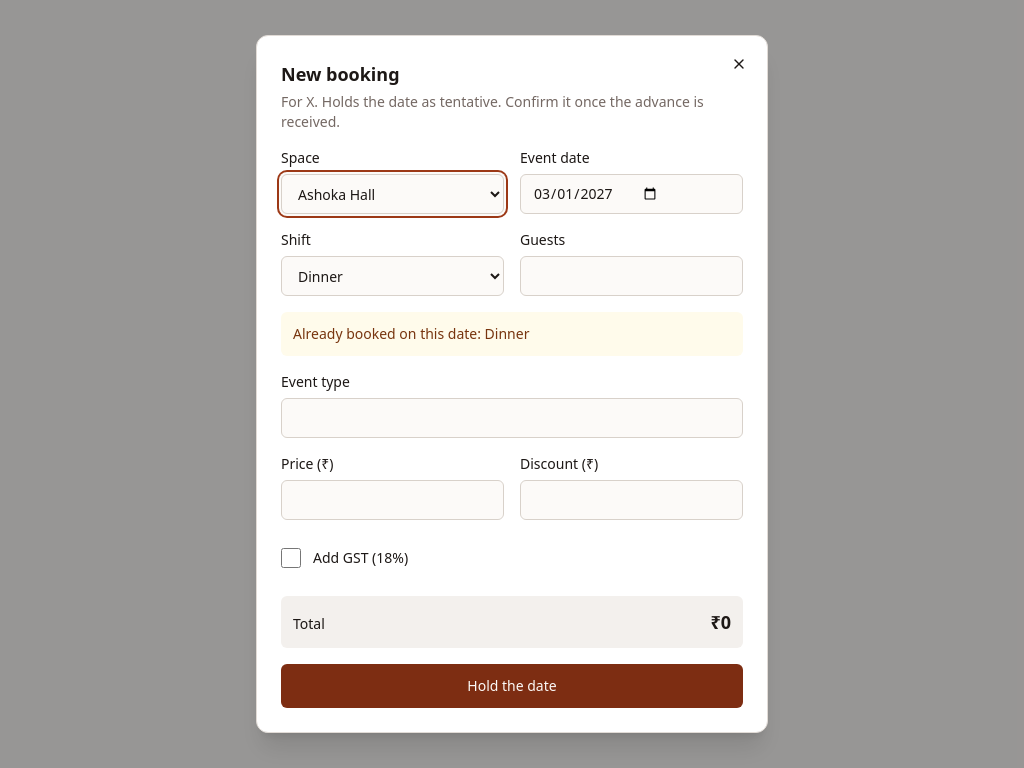
Test case: NewBookingDialog › warns about shifts already taken and explains a clash
Expected: the text "Already booked on this date: Dinner" is shown, top-left (281, 312), bottom-right (743, 356)
Click the button "Hold the date" at (512, 686), box top-left (281, 664), bottom-right (743, 708)
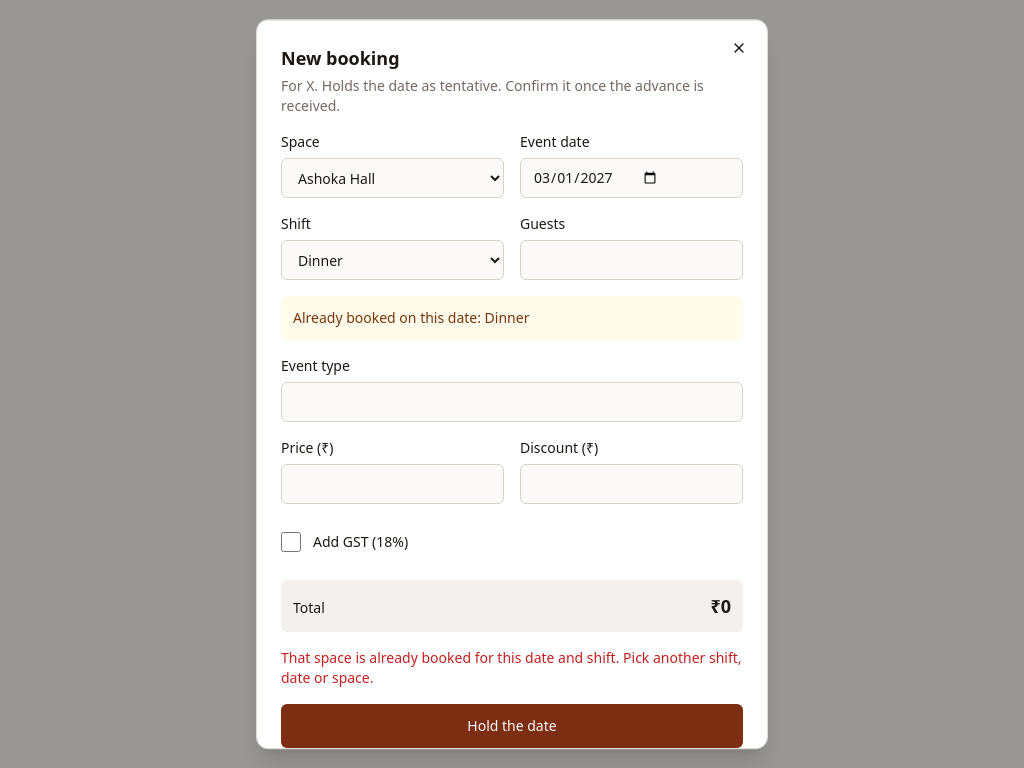
Expected: the 2nd message shows "already booked", top-left (281, 648), bottom-right (742, 687)
